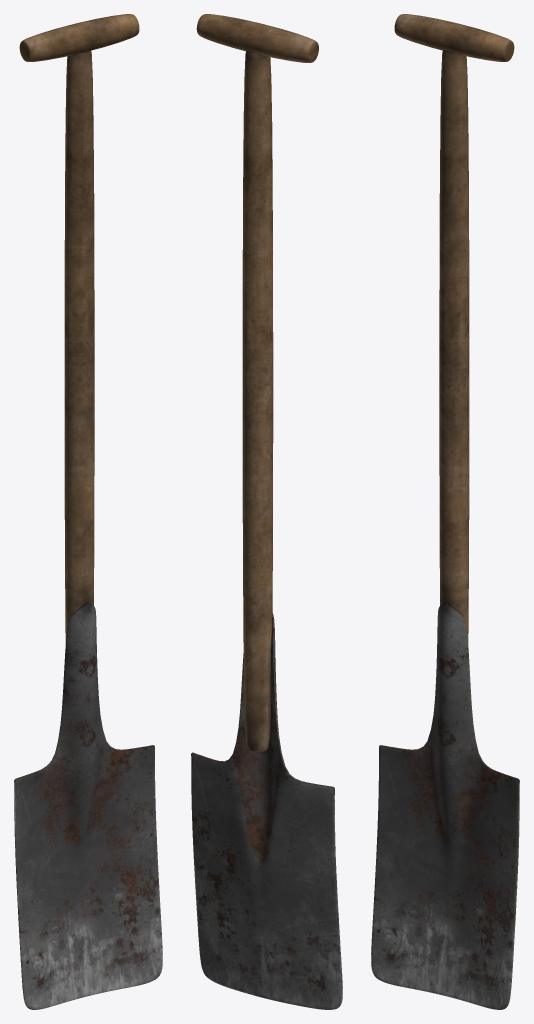
File: spade.glb
The picture shows the model from 3 angles, left to right: view 1: azimuth 30°, elevation 25°; view 2: azimuth 150°, elevation 25°; view 3: azimuth 330°, elevation 25°; orthographic projection. The views are drawn at different scales.
Visible parts, largest first — view 1: rusted_spade_01; view 2: rusted_spade_01; view 3: rusted_spade_01.
Boxes of the visible parts, left/top/right/bottom form: rusted_spade_01: left=14, top=14, right=162, bottom=1009; rusted_spade_01: left=191, top=14, right=342, bottom=1009; rusted_spade_01: left=371, top=14, right=519, bottom=1009.
Bounding box in the file's own units: 0.1681 × 1.1 × 0.0456.
1 material, 1 textured.
